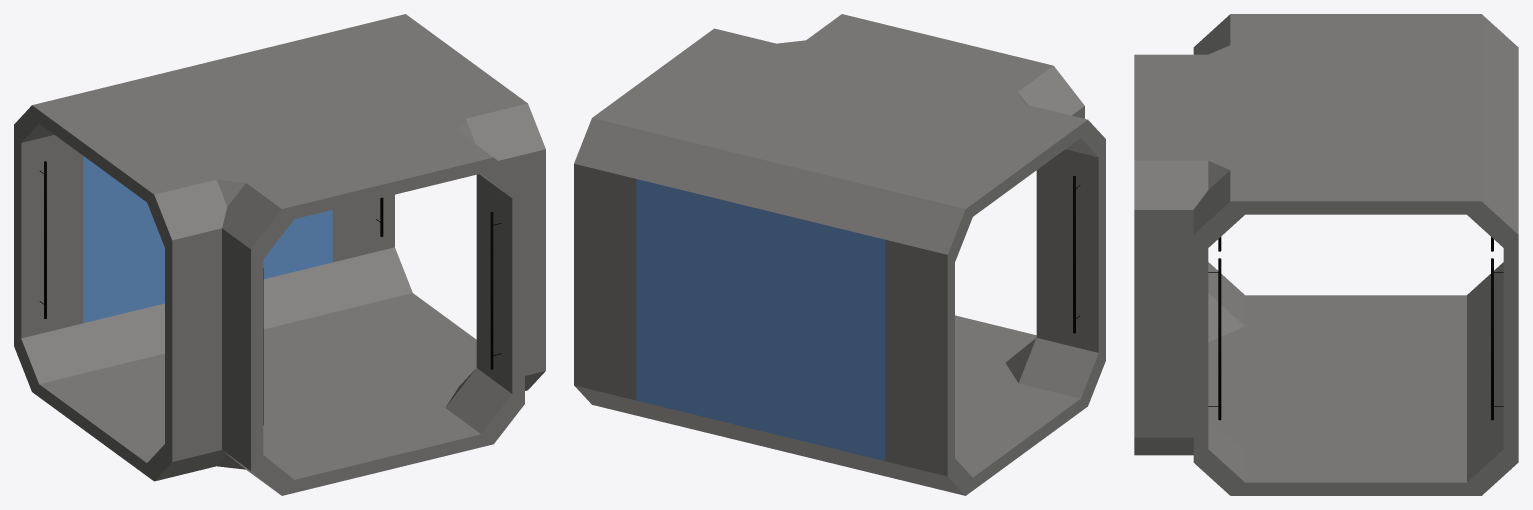
The model's file is tube_3way.fbx.
3 renders of one model, left to right at view 1: azimuth 30°, elevation 25°; view 2: azimuth 150°, elevation 25°; view 3: azimuth 270°, elevation 25°, orthographic. The views are drawn at different scales.
Visible parts, largest first — view 1: Tube3way, Cylinder.010; view 2: Tube3way; view 3: Tube3way, Cylinder.012.
Boxes of the visible parts, x1,y1,x2,y2 form: Tube3way: [14, 14, 545, 495]; Cylinder.010: [263, 212, 501, 424]; Tube3way: [574, 14, 1105, 495]; Tube3way: [1134, 14, 1518, 495]; Cylinder.012: [1208, 258, 1503, 420].
Size of the model in its own units: 600 by 440 by 520.
